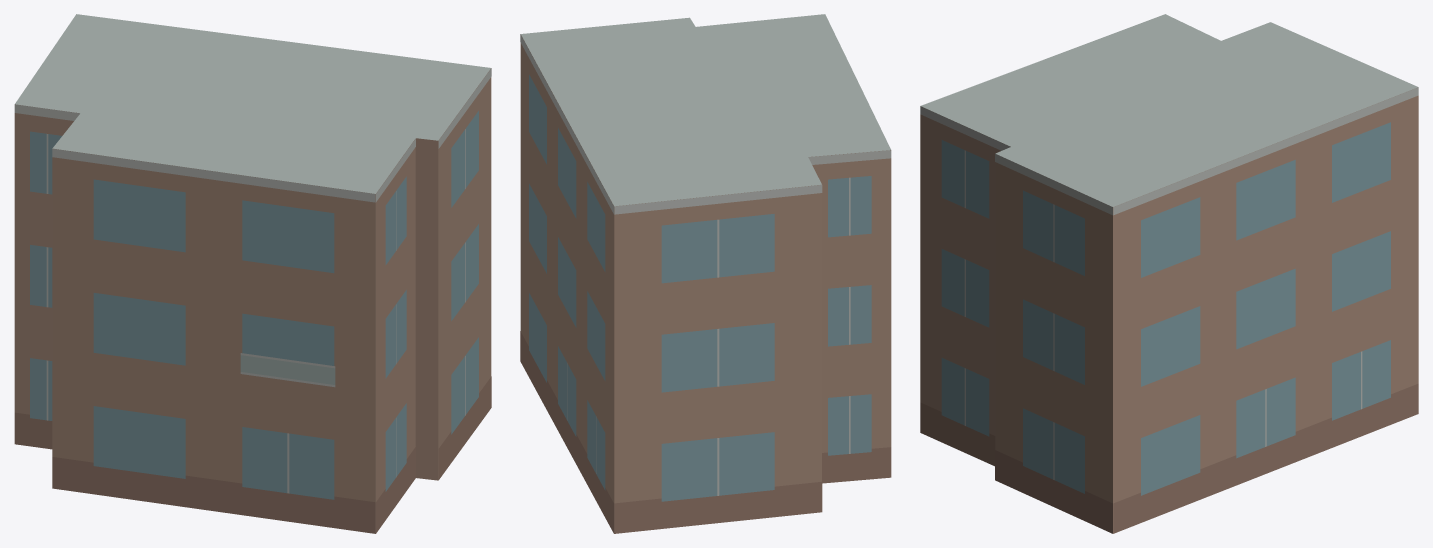
The model's file is survey-upis-32989215.glb.
3 renders of one model, left to right at view 1: azimuth 30°, elevation 25°; view 2: azimuth 150°, elevation 25°; view 3: azimuth 270°, elevation 25°, orthographic. The views are drawn at different scales.
Visible parts, largest first — view 1: survey-upis-32989215.tmp; view 2: survey-upis-32989215.tmp; view 3: survey-upis-32989215.tmp.
Boxes of the visible parts, left/top/right/bottom form: survey-upis-32989215.tmp: left=14, top=14, right=491, bottom=533; survey-upis-32989215.tmp: left=520, top=14, right=891, bottom=533; survey-upis-32989215.tmp: left=920, top=14, right=1418, bottom=533.
Bounding box in the file's own units: 12.18 × 9.6 × 13.28.
